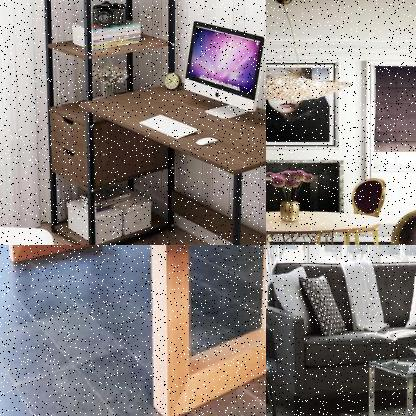table: (0, 245, 265, 415), (73, 71, 265, 244), (266, 207, 386, 244)
